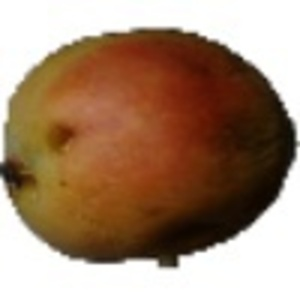mamão: (6, 28, 294, 259)
